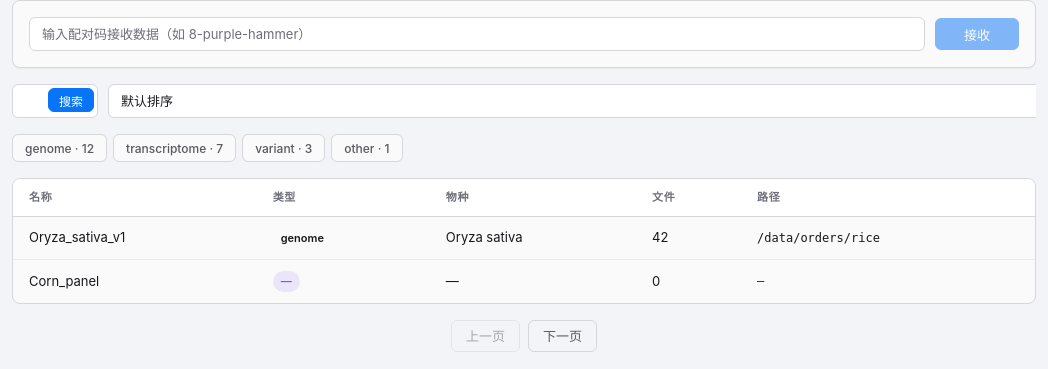
Scenario: DatasetsPage › loads next page with cursor on button click
Expected: the text "Oryza_sativa_v1" is shown, [13,216,257,260]
Click the button "下一页": (562, 336) [528,320,597,352]
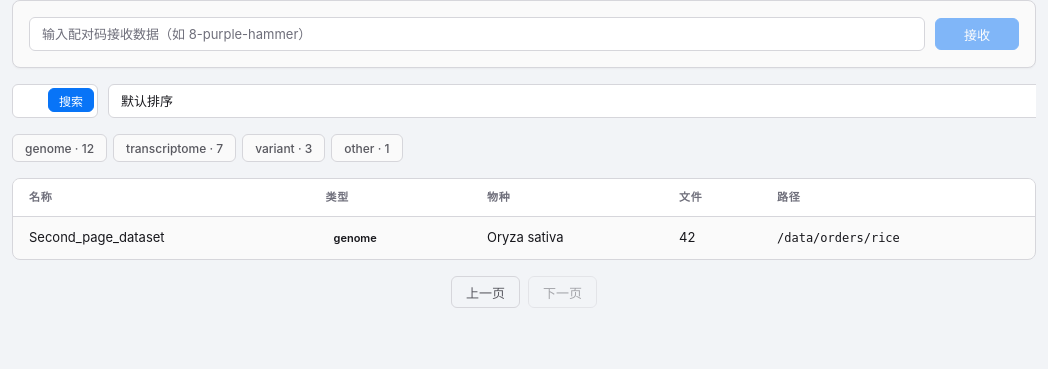
Now the text "Second_page_dataset" is shown, box [13,216,310,259]
